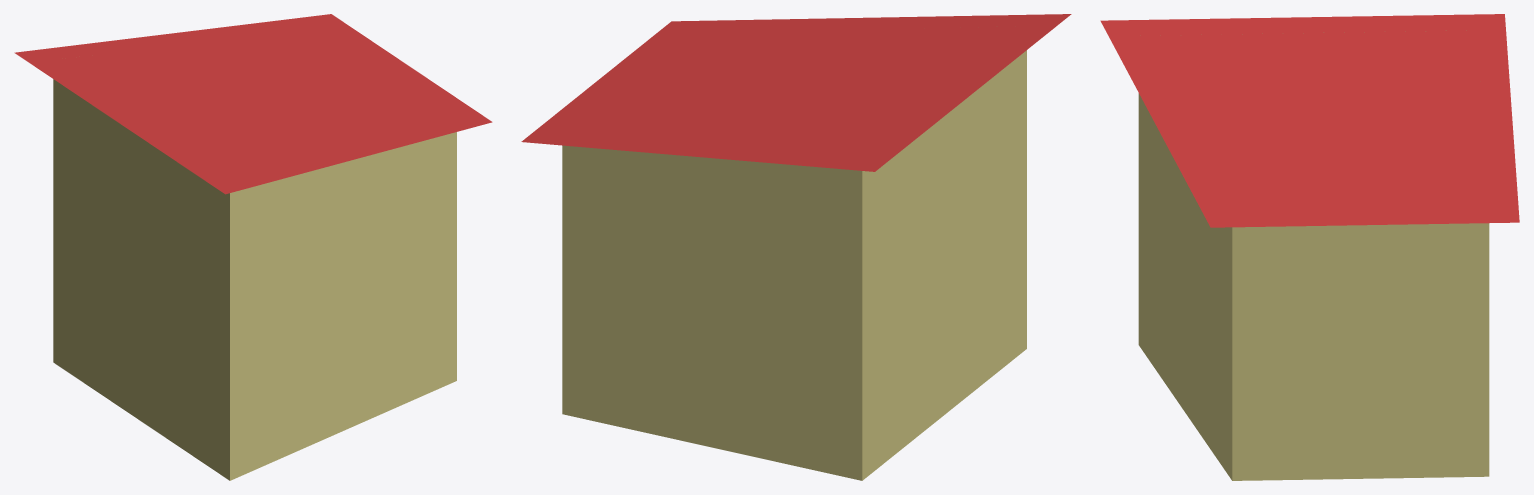
3 views of the same model, side by side, from view 1: azimuth 30°, elevation 25°; view 2: azimuth 150°, elevation 25°; view 3: azimuth 270°, elevation 25° (orthographic). The views are drawn at different scales.
Bounding box in the file's own units: 6.77 × 7.19 × 5.91.
